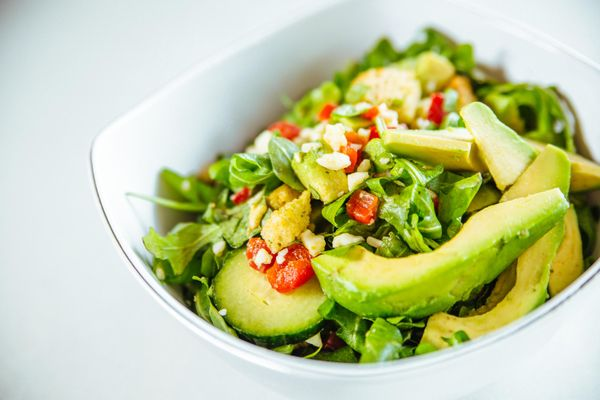sushi: (89, 2, 600, 388)
